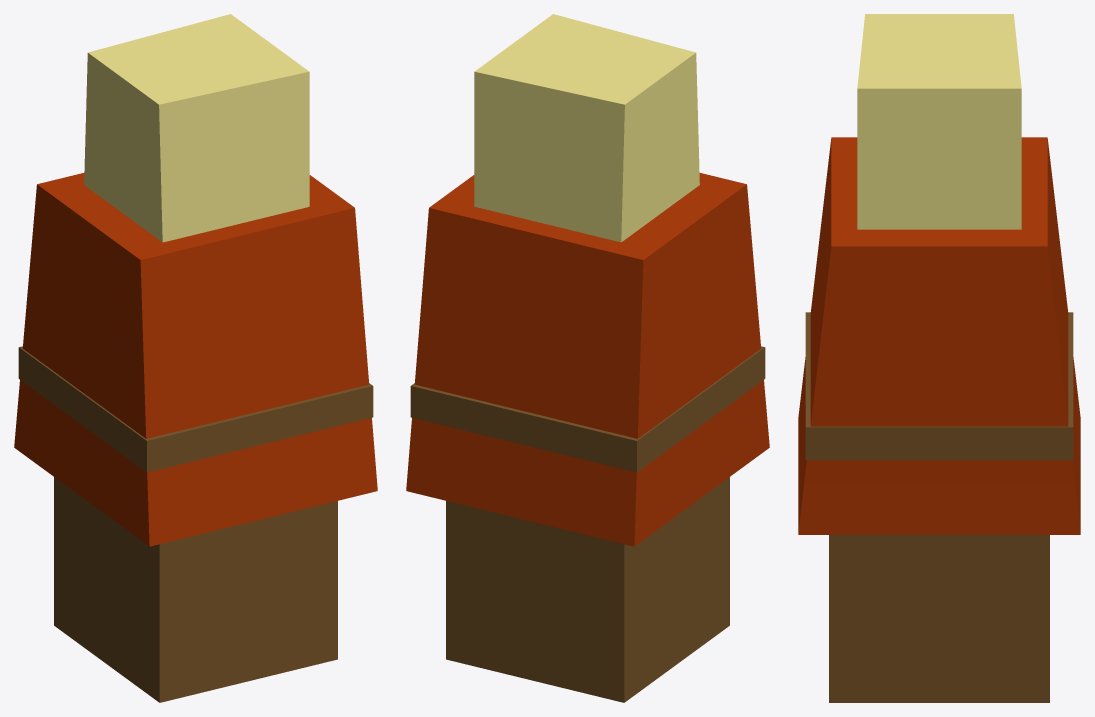
Rendered from settler.fbx.
The picture shows the model from 3 angles, left to right: view 1: azimuth 30°, elevation 25°; view 2: azimuth 150°, elevation 25°; view 3: azimuth 270°, elevation 25°; orthographic projection. The views are drawn at different scales.
Parts seen in each view (by area): view 1: polySurface217; view 2: polySurface217; view 3: polySurface217.
Boxes of the visible parts, bbox=[...] form: polySurface217: bbox=[14, 14, 377, 702]; polySurface217: bbox=[406, 14, 769, 702]; polySurface217: bbox=[798, 14, 1080, 702].
Size of the model in its own units: 11.08 by 26.98 by 11.39.
Materials: 1 (1 with a texture image).
